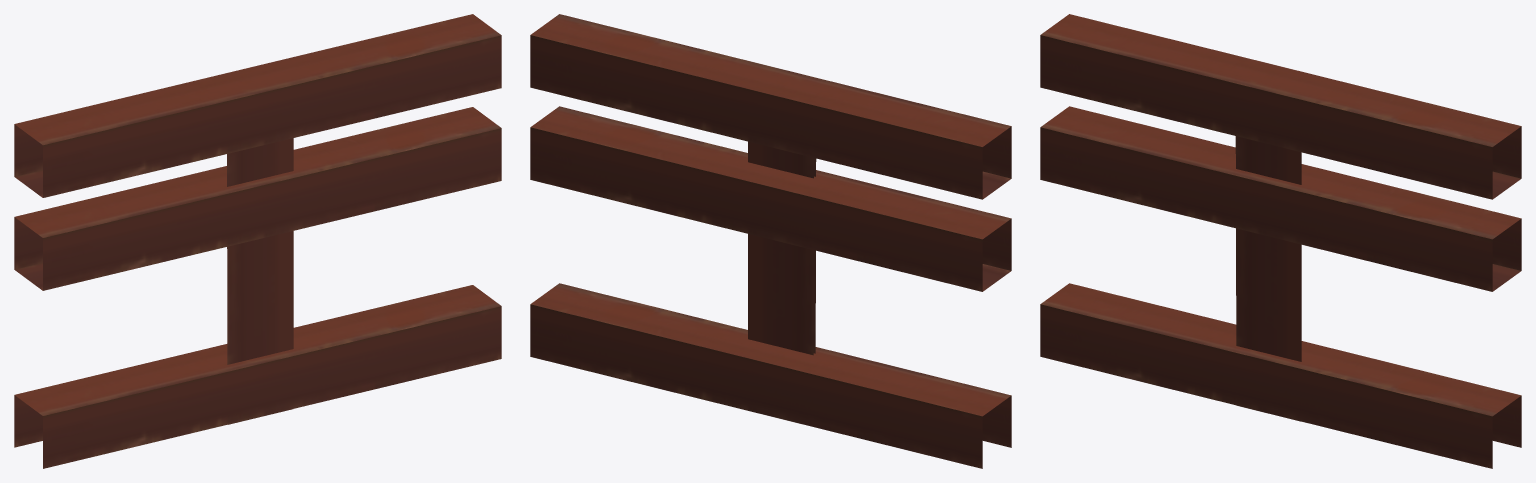
Rendered from ZYbui_CLF_langan03.FBX.
The picture shows the model from 3 angles, left to right: view 1: azimuth 30°, elevation 25°; view 2: azimuth 150°, elevation 25°; view 3: azimuth 330°, elevation 25°; orthographic projection.
Parts seen in each view (by area): view 1: ZYbui_CLF_langan03; view 2: ZYbui_CLF_langan03; view 3: ZYbui_CLF_langan03.
Boxes of the visible parts, x1=… form: ZYbui_CLF_langan03: x1=14, y1=14, x2=501, y2=468; ZYbui_CLF_langan03: x1=530, y1=14, x2=1011, y2=468; ZYbui_CLF_langan03: x1=1040, y1=14, x2=1521, y2=468.
Bounding box in the file's own units: 108 × 75.02 × 12.7.
